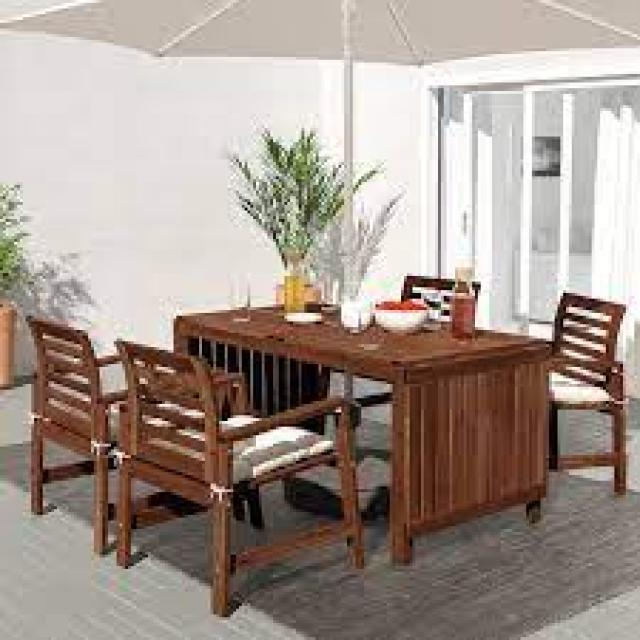chair: (112, 335, 366, 618), (23, 311, 190, 556), (522, 284, 631, 510), (392, 271, 486, 346)
